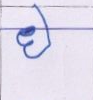e_matra: (32, 6, 52, 27)
